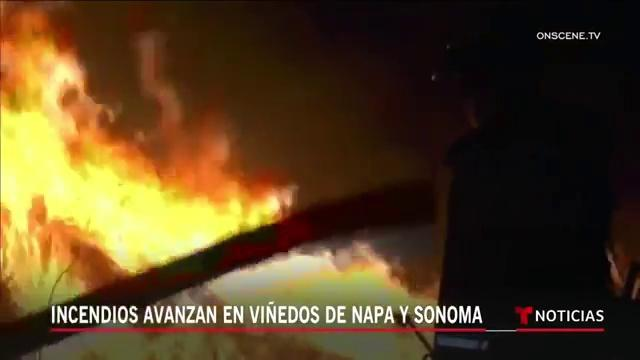fire: (85, 175, 208, 248), (5, 110, 68, 205)
